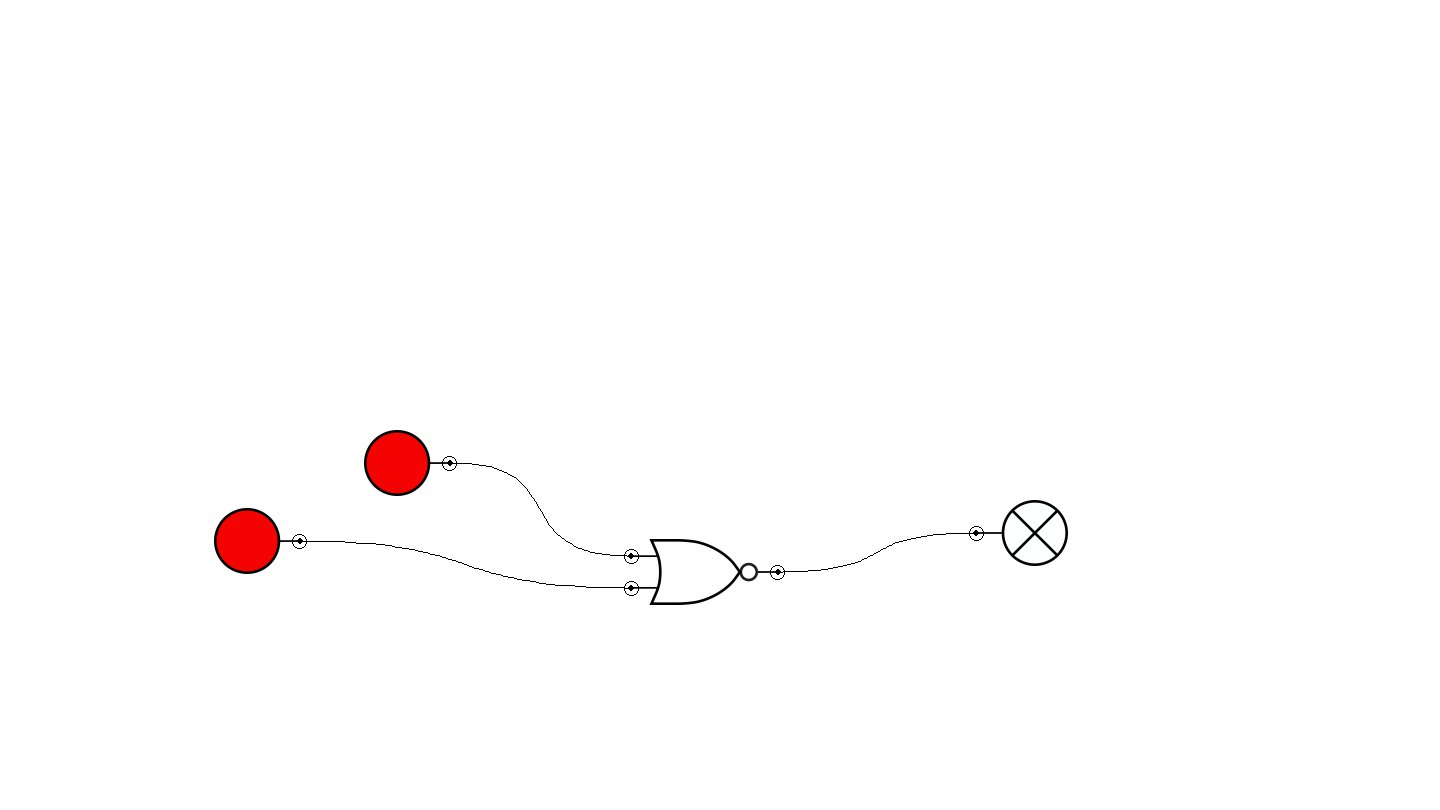bulb: (969, 500, 1068, 566)
nor: (624, 539, 785, 605)
switch_False: (364, 430, 457, 496), (214, 508, 307, 574)
